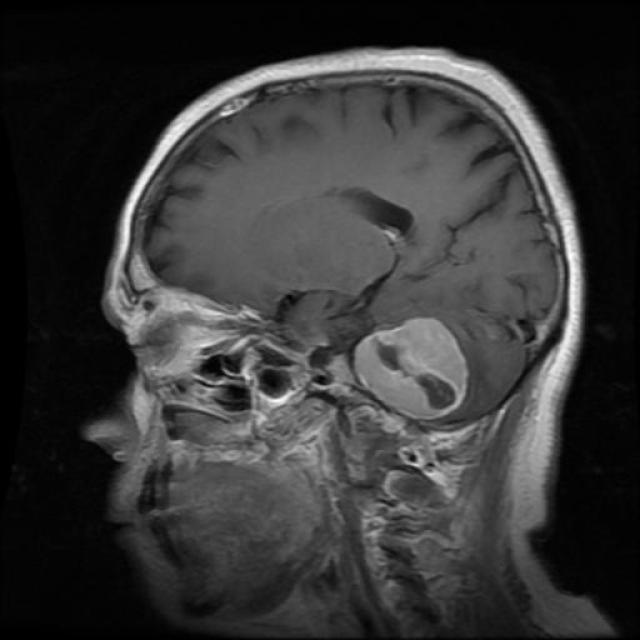meningioma: (349, 318, 471, 420)
